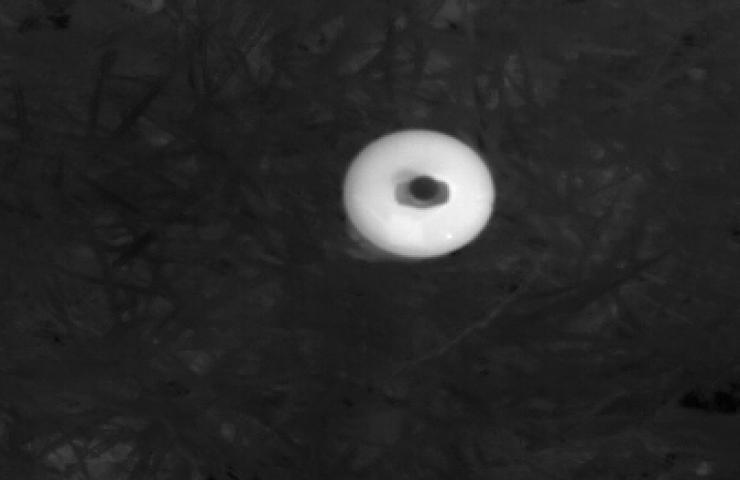landmines: (337, 124, 501, 268)
